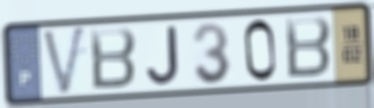0: (242, 17, 278, 84)
3: (189, 19, 233, 87)
B: (87, 25, 139, 92), (283, 13, 334, 81)
J: (144, 23, 182, 87)
V: (40, 23, 88, 99)
